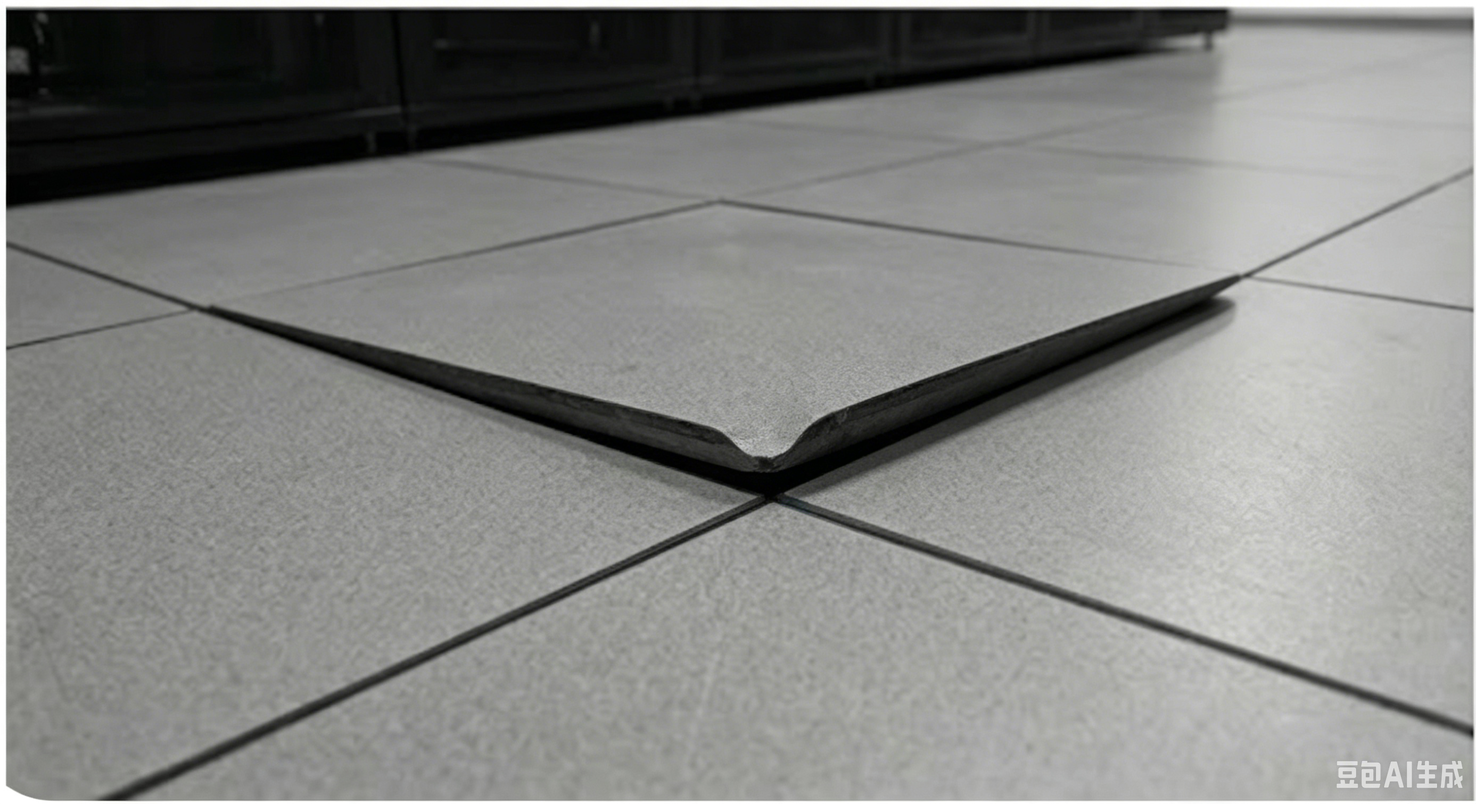floor_defect: (222, 296, 777, 501), (780, 345, 1010, 501), (1006, 281, 1236, 385)
